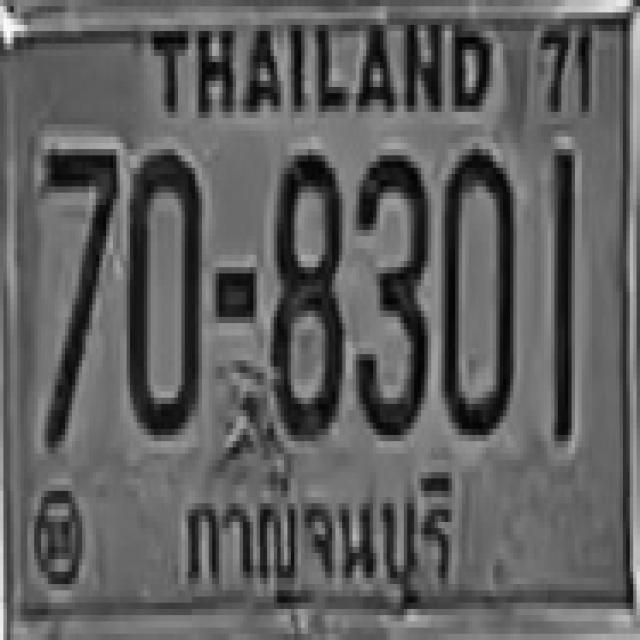0: (125, 143, 200, 429), (439, 143, 512, 429)
1: (551, 146, 572, 438)
3: (352, 146, 424, 432)
7: (41, 140, 116, 438)
8: (270, 146, 339, 432)
Kanchanaburi: (175, 461, 462, 616)
